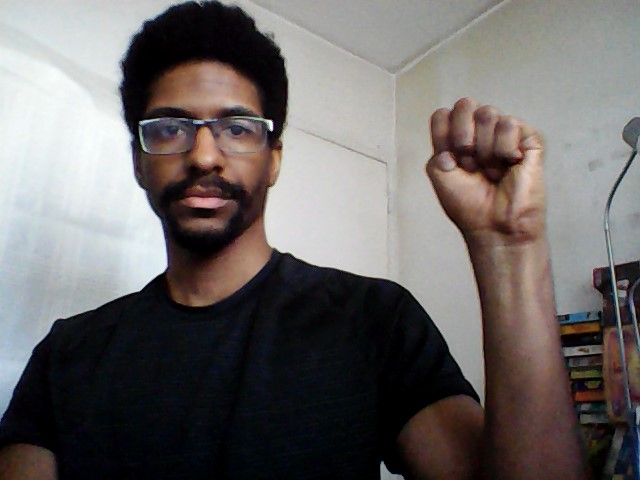m: (421, 95, 554, 242)
